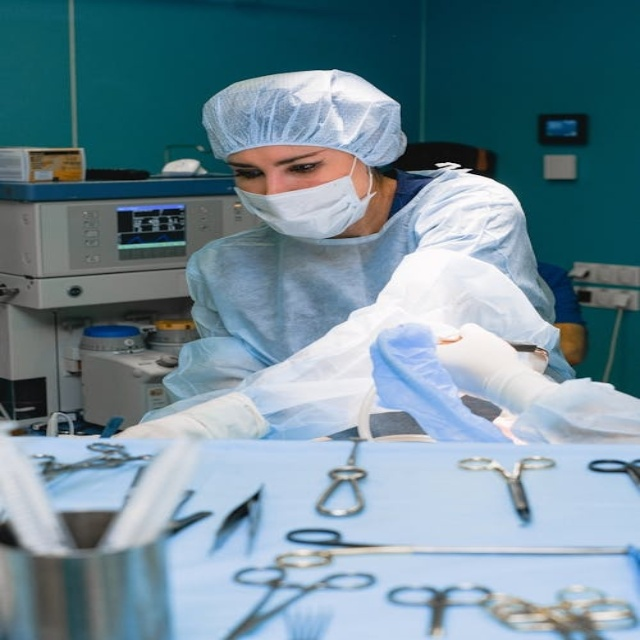Guantes: (426, 316, 552, 410)
Mascara: (234, 155, 381, 239)
Sin_gafas: (232, 148, 329, 182)
